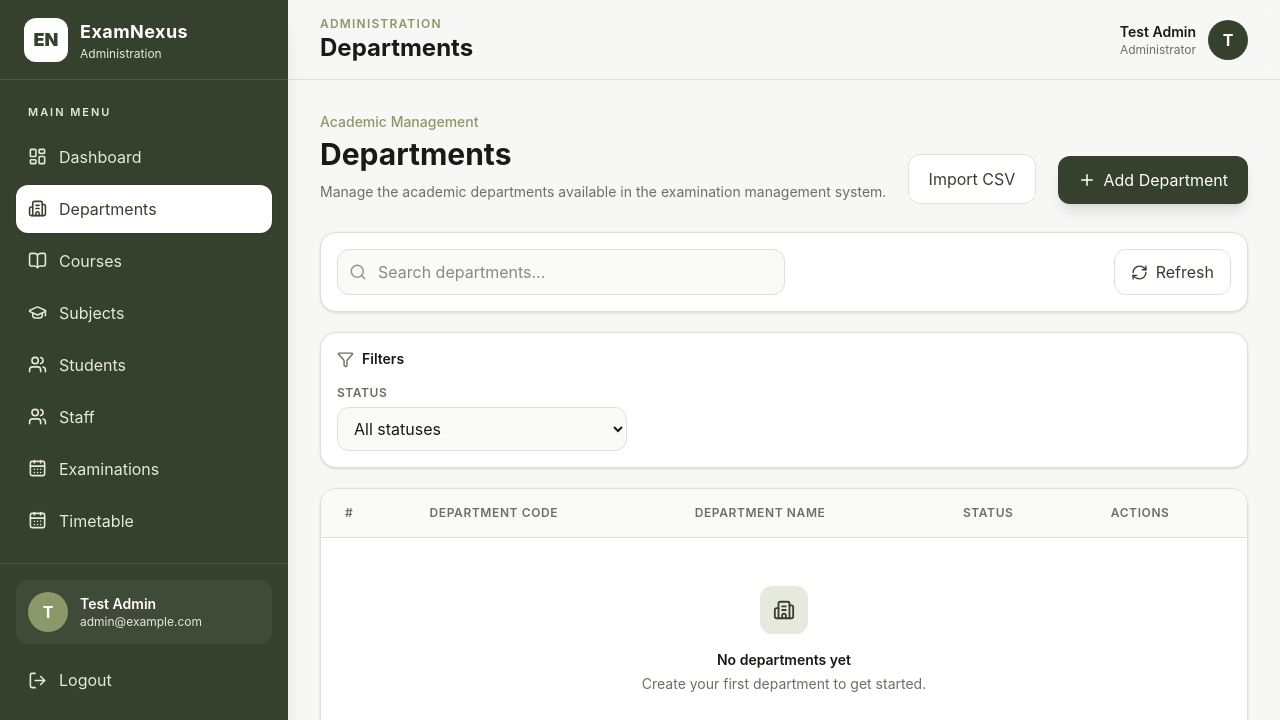
Test case: Phase 14 — Cross-cutting behavior › X-08: logging out clears both localStorage and the URL hash
The width and height of the screenshot is (1280, 720).
Click the button "Logout" at (144, 680), box [16, 656, 272, 704]
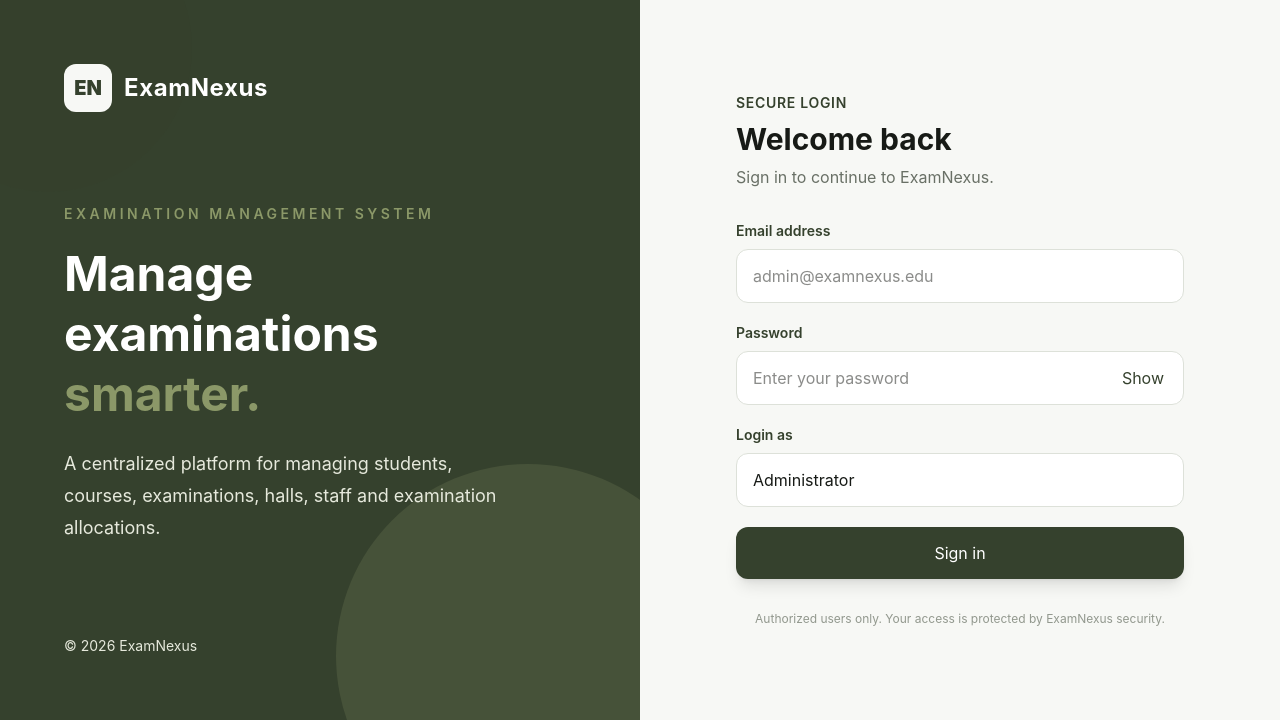
Now the heading "Welcome back" is shown, box [736, 121, 952, 157]
